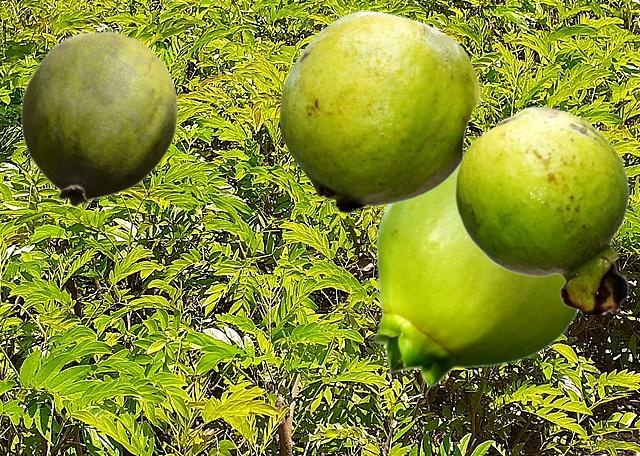guava: (373, 174, 578, 386), (279, 10, 479, 213), (454, 106, 629, 313), (20, 31, 178, 206)
